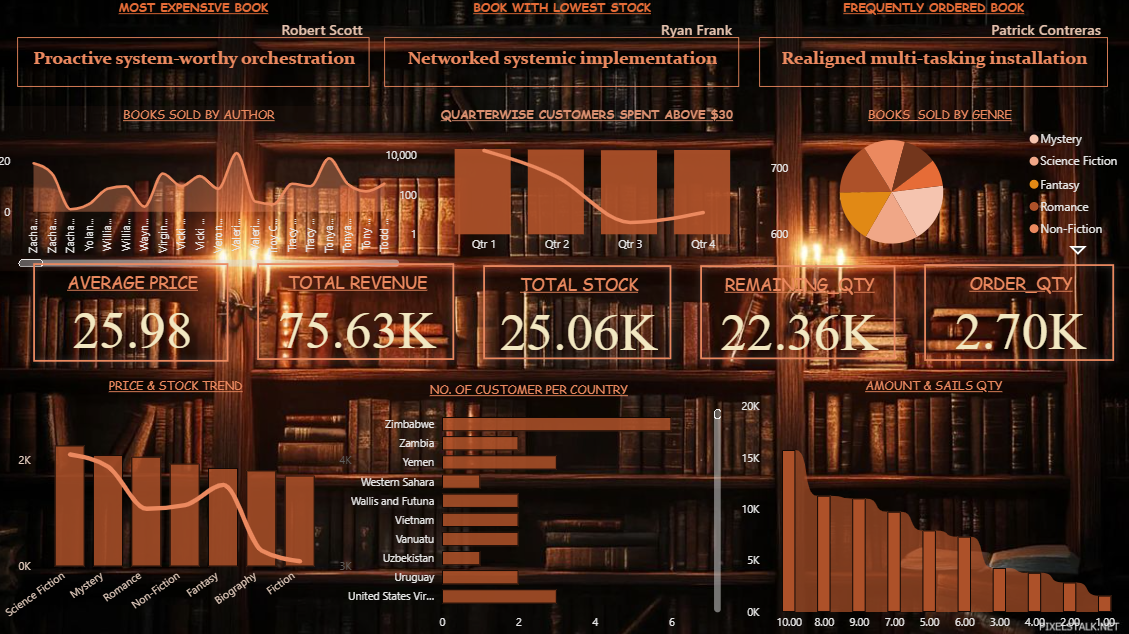

What the dashboard file says about the page in this screenshot:
{"tool":"powerbi","page":{"name":"Page 1","canvas":[1280,720],"ordinal":0},"visuals":[{"type":"cardVisual","title":"MOST EXPENSIVE BOOK","fields":{"Data":["Min(public most_expensive_book.title)"],"Rows":["public most_expensive_book.author"]},"box":[0,0,447.3,119.8],"z":0},{"type":"lineClusteredColumnComboChart","title":"PRICE & STOCK TREND","fields":{"Category":["public books.genre"],"Y":["Sum(public books.price)"],"Y2":["Sum(public books.stock)"]},"box":[0,425.4,407.3,293.5],"z":1000},{"type":"ribbonChart","title":"AMOUNT & SAILS QTY","fields":{"Category":["public orders.quantity"],"Y":["Sum(public orders.total_amount)"]},"box":[836.5,425.4,443.5,294.8],"z":2000},{"type":"clusteredBarChart","title":"NO. OF CUSTOMER PER COUNTRY","fields":{"Y":["CountNonNull(public customer.customer_id)"],"Category":["public customer.country"]},"box":[380.1,430.5,443.5,289.6],"z":3000},{"type":"pieChart","title":"BOOKS_SOLD BY  GENRE","fields":{"Y":["Min(public books_sold_for_each_genre.BOOKS_SOLD)"],"Category":["public books_sold_for_each_genre.genre"]},"box":[850.7,120.2,428,174.5],"z":4000},{"type":"cardVisual","title":"BOOK WITH LOWEST STOCK","fields":{"Data":["Min(public lowest_stock.title)"],"Rows":["public lowest_stock.author"]},"box":[413.6,0,451,119.8],"z":5000},{"type":"cardVisual","title":"FREQUENTLY ORDERED BOOK","fields":{"Data":["Min(public frequently_ordered_book.title)"],"Rows":["public frequently_ordered_book.Author"]},"box":[836.5,0,443.5,119.8],"z":6000},{"type":"stackedAreaChart","title":"BOOKS SOLD BY AUTHOR","fields":{"Category":["public sold_by_each_author.author"],"Y":["Sum(public sold_by_each_author.total_books_sold)"]},"box":[-1.3,120.2,461.6,186.2],"z":7000},{"type":"lineClusteredColumnComboChart","title":"QUARTERWISE CUSTOMERS SPENT ABOVE $30","fields":{"Y2":["Sum(public total_amount_exceeds_$20.quantity)"],"Y":["Sum(public total_amount_exceeds_$20.total_amount)"],"Category":["public total_amount_exceeds_$20.order_date.Variation.Date Hierarchy.Quarter"]},"box":[434.4,120.2,464.2,174.5],"z":8000},{"type":"cardVisual","title":"AVERAGE PRICE","fields":{"Data":["Sum(public average_price.average_price)"]},"box":[27.2,281.9,252.1,143.5],"z":9000},{"type":"cardVisual","title":"AVERAGE PRICE","fields":{"Data":["Sum(public total_revenue.revenue)"]},"box":[279.4,281.7,254.6,142],"z":10000},{"type":"cardVisual","title":"AVERAGE PRICE","fields":{"Data":["Sum(public total_stock_of_books_available.total_stock)"]},"box":[534,284.4,244.4,138.3],"z":11000},{"type":"cardVisual","title":"AVERAGE PRICE","fields":{"Data":["Sum(public remaining_after_fulfilling_all.remaining_quantity)"]},"box":[778.6,283.9,252.4,138.6],"z":12000},{"type":"cardVisual","title":"AVERAGE PRICE","fields":{"Data":["Sum(public remaining_after_fulfilling_all.order_quantity)"]},"box":[1031,282.8,246.8,142],"z":13000}]}

Visuals, with their boxes in screenshot pixels (x1, y1, x2, y2), scaled from the page's 1280x720 canvas onto the 1129x634 screenshot:
"MOST EXPENSIVE BOOK" cardVisual: [0, 0, 395, 105]
"PRICE & STOCK TREND" lineClusteredColumnComboChart: [0, 375, 359, 633]
"AMOUNT & SAILS QTY" ribbonChart: [738, 375, 1128, 633]
"NO. OF CUSTOMER PER COUNTRY" clusteredBarChart: [335, 379, 726, 633]
"BOOKS_SOLD BY  GENRE" pieChart: [750, 106, 1128, 259]
"BOOK WITH LOWEST STOCK" cardVisual: [365, 0, 763, 105]
"FREQUENTLY ORDERED BOOK" cardVisual: [738, 0, 1128, 105]
"BOOKS SOLD BY AUTHOR" stackedAreaChart: [0, 106, 406, 270]
"QUARTERWISE CUSTOMERS SPENT ABOVE $30" lineClusteredColumnComboChart: [383, 106, 793, 259]
"AVERAGE PRICE" cardVisual: [24, 248, 246, 375]
"AVERAGE PRICE" cardVisual: [246, 248, 471, 373]
"AVERAGE PRICE" cardVisual: [471, 250, 687, 372]
"AVERAGE PRICE" cardVisual: [687, 250, 909, 372]
"AVERAGE PRICE" cardVisual: [909, 249, 1127, 374]
